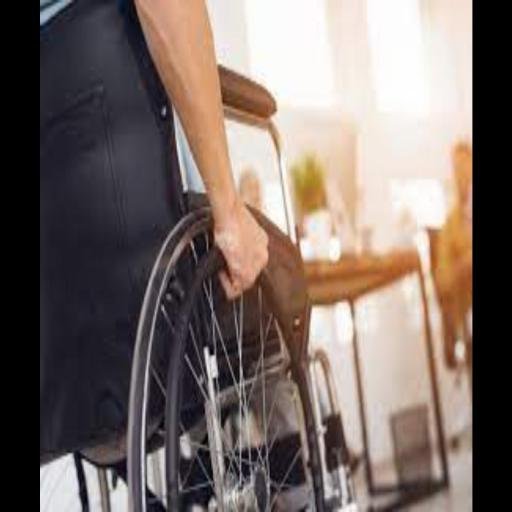cadeira_de_rodas: (42, 34, 349, 512)
